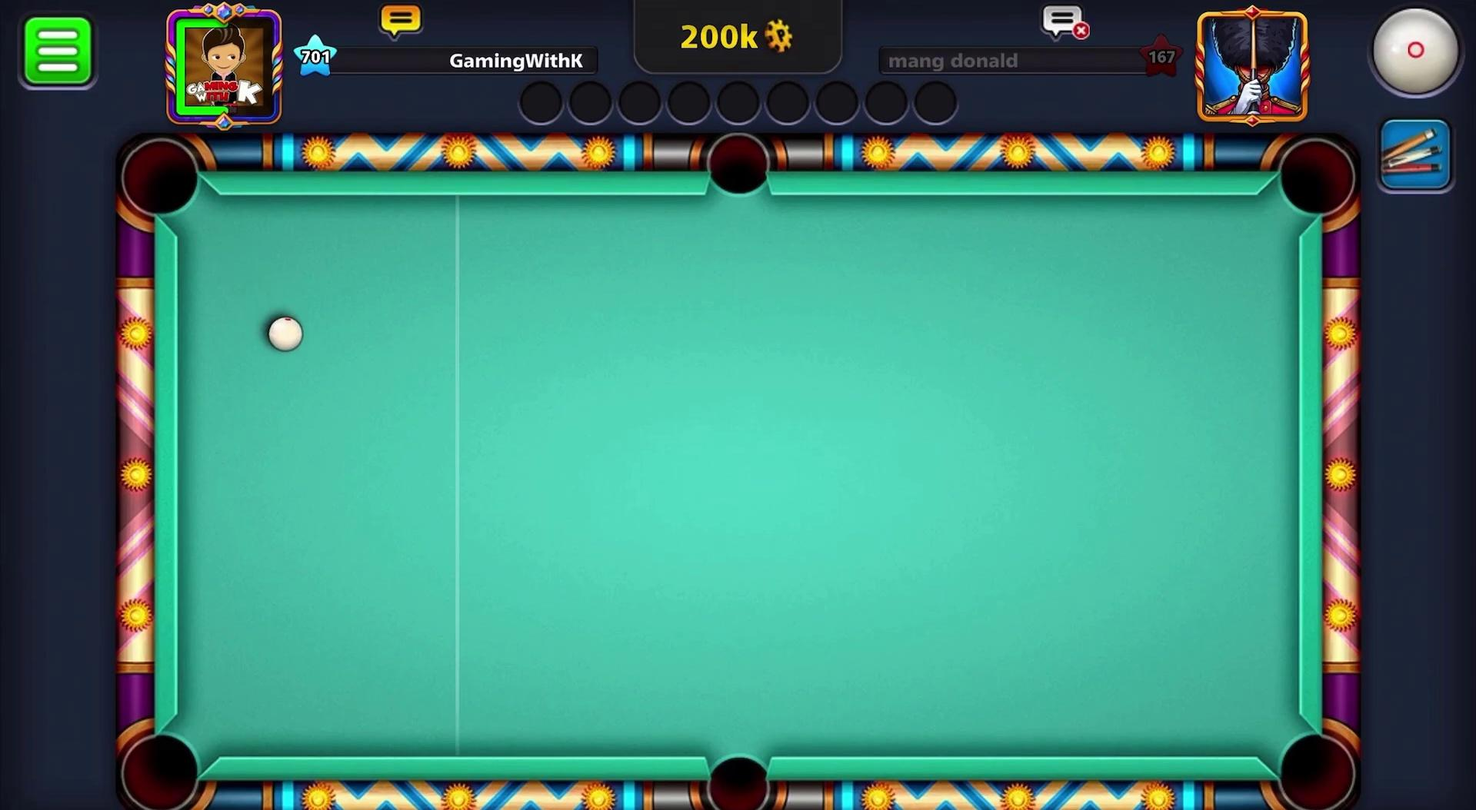Hole: (108, 125, 222, 239), (1268, 131, 1364, 229), (110, 719, 212, 809), (1264, 719, 1364, 809), (685, 734, 786, 809), (699, 128, 776, 206)
Play_Area: (175, 197, 1298, 762)
Spin: (1347, 0, 1475, 112)
White: (259, 307, 309, 358)
